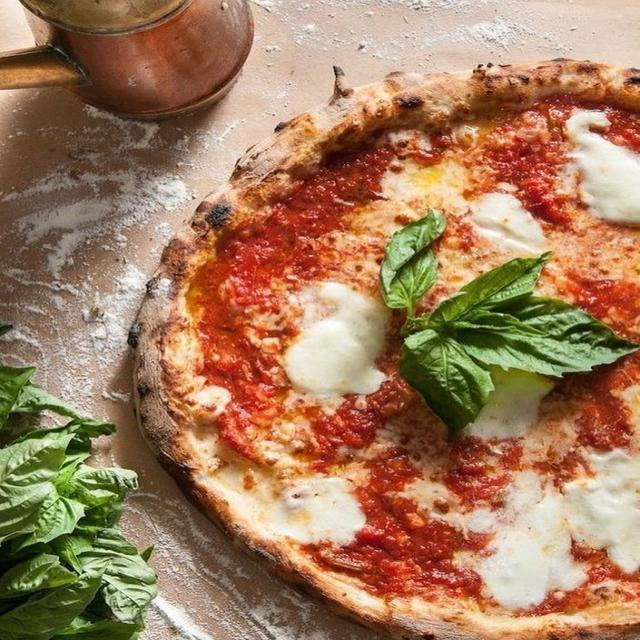basil: (407, 253, 638, 436), (378, 211, 445, 335)
pizza: (130, 59, 638, 640)
